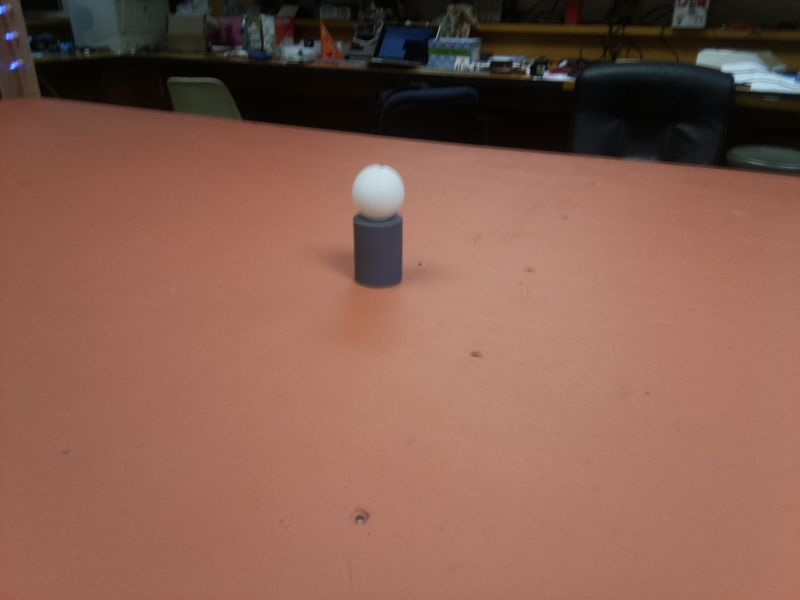corner: (2, 1, 42, 99)
obstacle: (349, 161, 407, 294)
